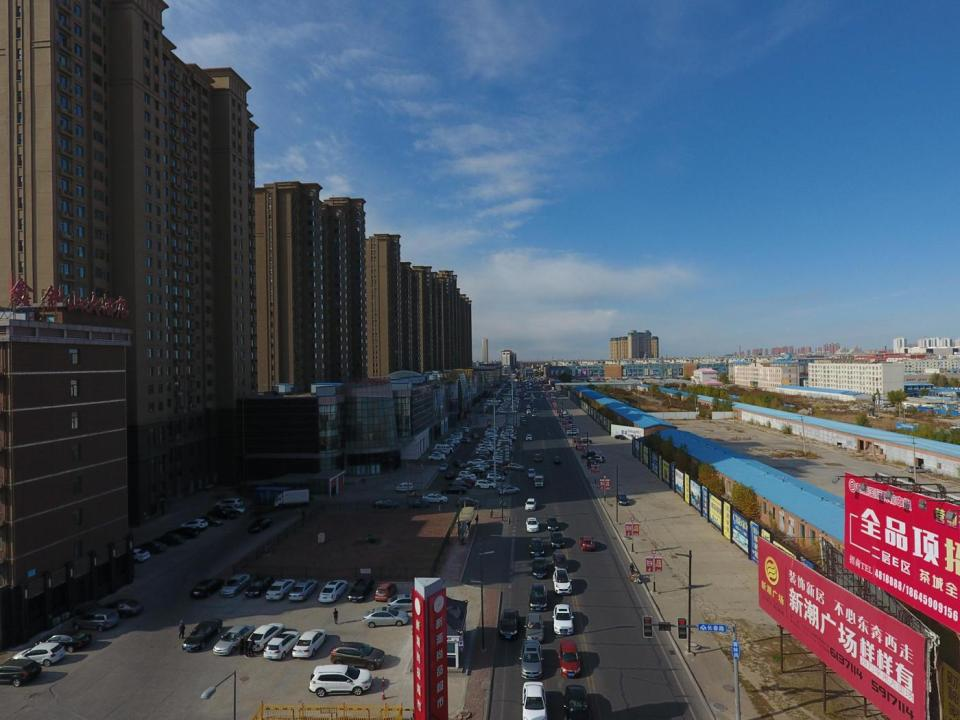car: (310, 664, 373, 696), (330, 641, 385, 669), (182, 617, 223, 650), (10, 642, 64, 667), (213, 624, 255, 656), (0, 658, 42, 688), (37, 629, 93, 651), (71, 608, 120, 632), (263, 630, 301, 660), (248, 623, 285, 652), (292, 629, 328, 658), (522, 681, 548, 720), (362, 606, 409, 627), (566, 685, 592, 720), (521, 640, 544, 679), (98, 598, 142, 618), (559, 640, 581, 678), (387, 594, 430, 612), (190, 577, 226, 598), (220, 574, 250, 598), (499, 608, 520, 641), (244, 575, 273, 598), (319, 580, 348, 603), (266, 578, 296, 600), (348, 577, 374, 602), (553, 604, 573, 636), (289, 580, 318, 601), (525, 612, 545, 642), (529, 583, 548, 613), (552, 569, 572, 595), (119, 547, 150, 563), (151, 534, 185, 547), (165, 527, 200, 539), (248, 518, 274, 534), (375, 583, 397, 601), (213, 497, 243, 510), (136, 542, 168, 554), (204, 509, 237, 520), (532, 556, 547, 580), (180, 518, 208, 530), (195, 515, 223, 527), (551, 553, 569, 571), (456, 497, 480, 508), (422, 494, 448, 504), (579, 536, 595, 552), (373, 498, 398, 508), (475, 479, 497, 490), (531, 538, 544, 556), (218, 506, 246, 514), (526, 517, 539, 534), (615, 492, 630, 506), (409, 498, 430, 508), (551, 532, 564, 548), (441, 486, 466, 494), (546, 516, 558, 532), (496, 486, 520, 494), (906, 466, 931, 473), (525, 498, 538, 511), (448, 481, 471, 488), (455, 475, 477, 482), (487, 473, 506, 481), (459, 470, 476, 478), (588, 454, 605, 462), (452, 460, 467, 468), (508, 463, 525, 470), (466, 459, 485, 465), (485, 470, 504, 476), (489, 468, 507, 474), (432, 448, 447, 455), (581, 451, 596, 458), (428, 454, 445, 460), (467, 468, 484, 474), (456, 479, 476, 484), (431, 451, 444, 458), (439, 462, 448, 471), (445, 471, 455, 479), (587, 460, 597, 468), (459, 437, 472, 443), (552, 456, 561, 464), (534, 453, 542, 462), (528, 468, 535, 478), (614, 434, 625, 440), (566, 430, 579, 435), (567, 428, 580, 433), (470, 466, 485, 470), (476, 464, 491, 468), (580, 439, 591, 444), (559, 412, 569, 417), (471, 433, 479, 439), (525, 434, 532, 440), (559, 411, 566, 415), (526, 409, 531, 414), (520, 418, 526, 422), (570, 424, 576, 428), (565, 416, 571, 420), (561, 410, 568, 413), (523, 397, 530, 400), (522, 420, 526, 425), (520, 413, 524, 418), (550, 396, 556, 399), (533, 408, 537, 412), (532, 413, 536, 416), (526, 405, 530, 408), (540, 394, 544, 397), (558, 392, 562, 394), (529, 386, 531, 390), (543, 396, 545, 399), (530, 401, 533, 403), (523, 395, 525, 398), (524, 393, 527, 395), (526, 387, 529, 389), (532, 399, 534, 401), (533, 397, 535, 399), (531, 392, 533, 394), (523, 390, 525, 391)
truck: (274, 489, 310, 509), (533, 474, 544, 487), (551, 387, 554, 390), (532, 395, 534, 398)
van: (395, 482, 414, 492), (434, 444, 452, 451)
